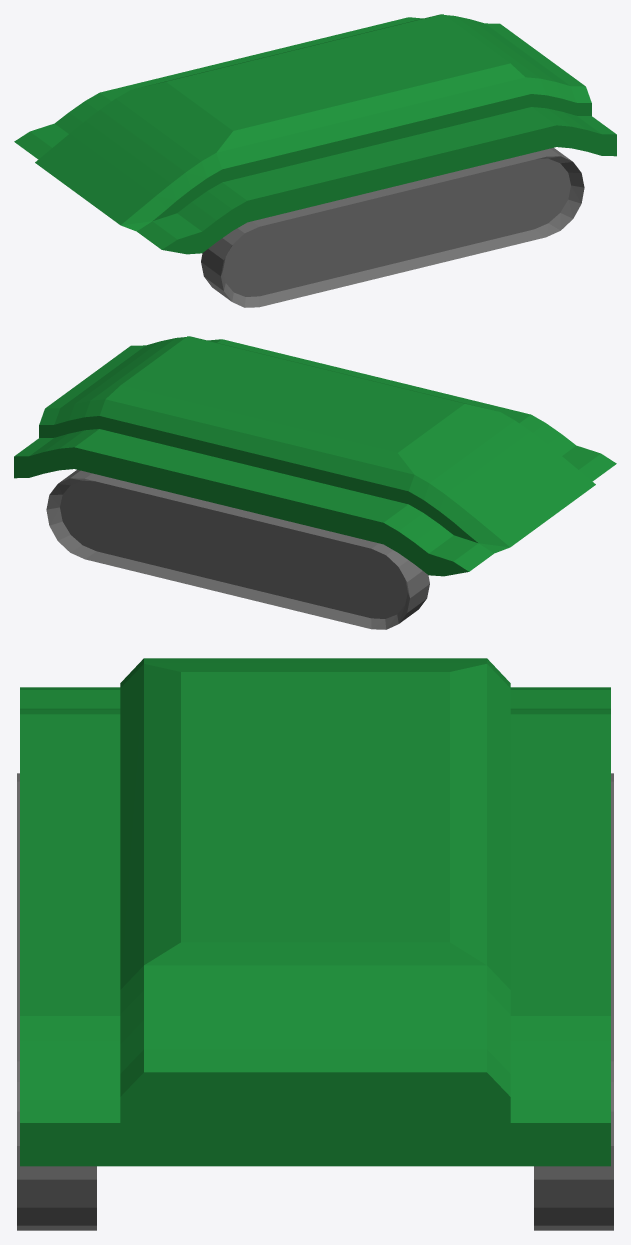
The model's file is Tank.dae.
The picture shows the model from 3 angles, top to bottom: view 1: azimuth 30°, elevation 25°; view 2: azimuth 150°, elevation 25°; view 3: azimuth 270°, elevation 25°; orthographic projection. The views are drawn at different scales.
Parts seen in each view (by area): view 1: Tank; view 2: Tank; view 3: Tank.
Boxes of the visible parts, box(x1,y1,x2,y2) form: Tank: box(14, 14, 616, 307); Tank: box(14, 336, 616, 629); Tank: box(17, 658, 613, 1230).
Bounding box in the file's own units: 6.05 × 3.36 × 1.77.
